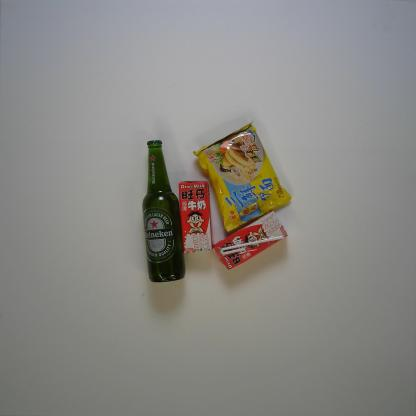Alcohol: (141, 139, 186, 283)
Instant Noodles: (192, 120, 293, 234)
Milk: (213, 209, 289, 270), (178, 180, 214, 254)
